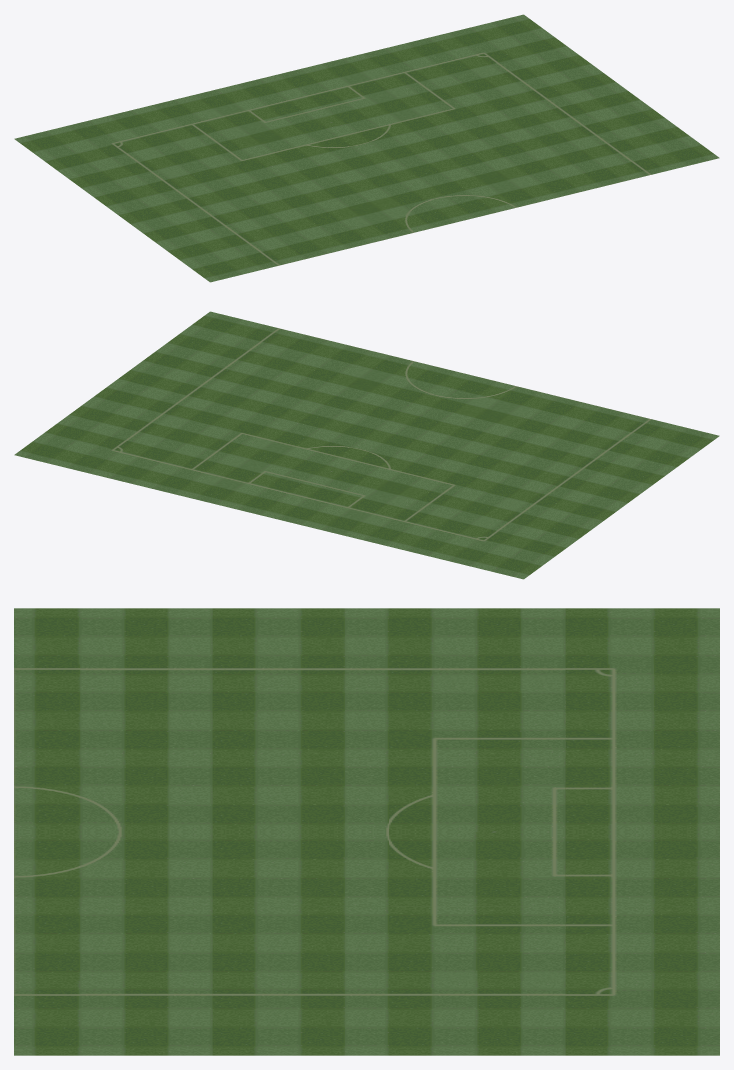
3 renders of one model, top to bottom at view 1: azimuth 30°, elevation 25°; view 2: azimuth 150°, elevation 25°; view 3: azimuth 270°, elevation 25°, orthographic. The views are drawn at different scales.
Bounding box in the file's own units: 92.4 × 0 × 61.61.
4 materials, 4 textured.
